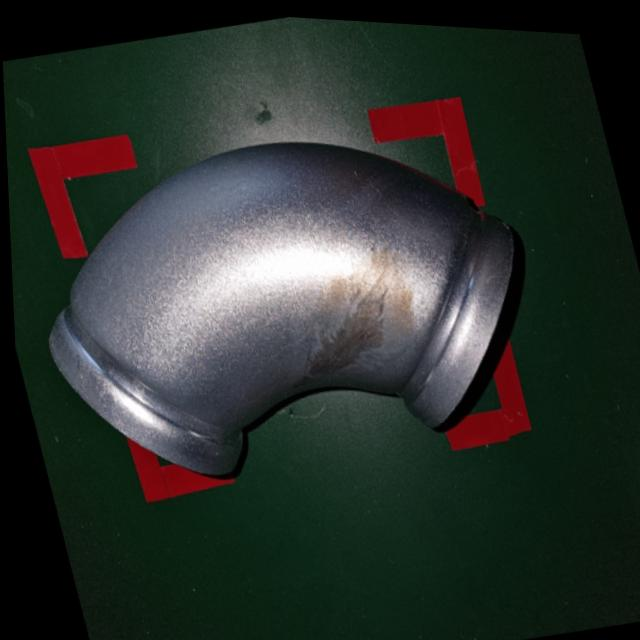Burn: (253, 217, 437, 409)
Defect: (3, 73, 569, 531)
